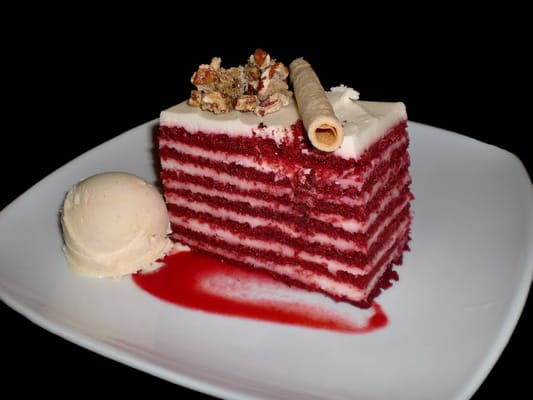sushi: (155, 50, 416, 313), (59, 172, 173, 281)
